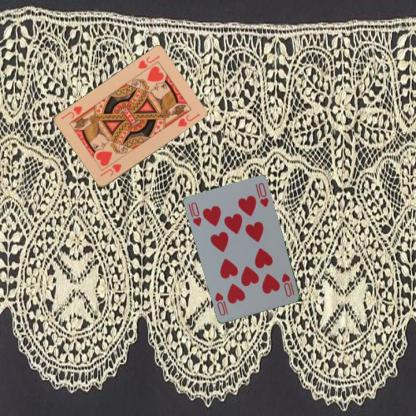10h: (279, 271, 296, 298), (188, 199, 203, 228)
Jh: (135, 52, 161, 70), (97, 161, 123, 178)
